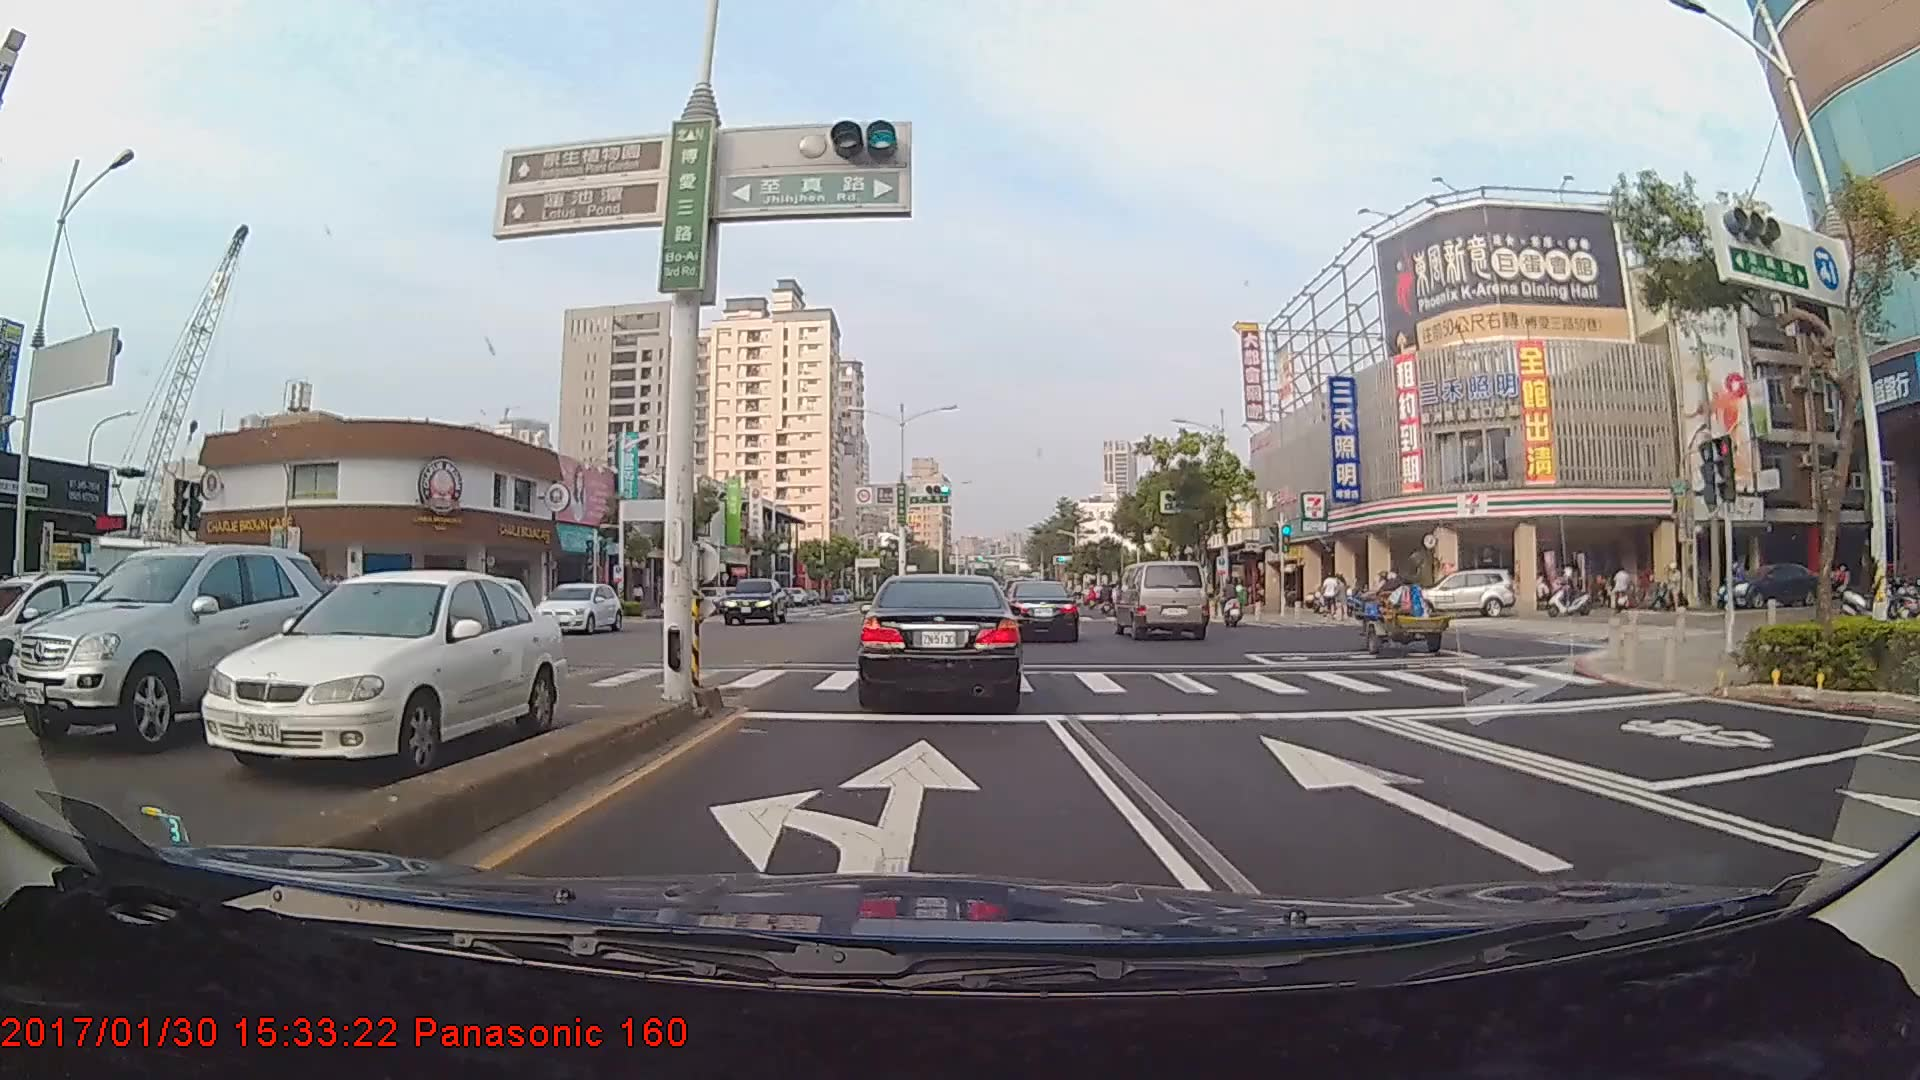pedestrian: (1321, 570, 1341, 620)
rider: (1541, 561, 1599, 622), (1213, 578, 1249, 631)
vehicle: (182, 563, 541, 788), (26, 538, 321, 747), (857, 573, 1020, 705), (0, 563, 133, 705), (1117, 560, 1210, 641), (1402, 569, 1515, 619), (532, 580, 620, 636), (1004, 580, 1080, 642), (720, 577, 788, 626)
